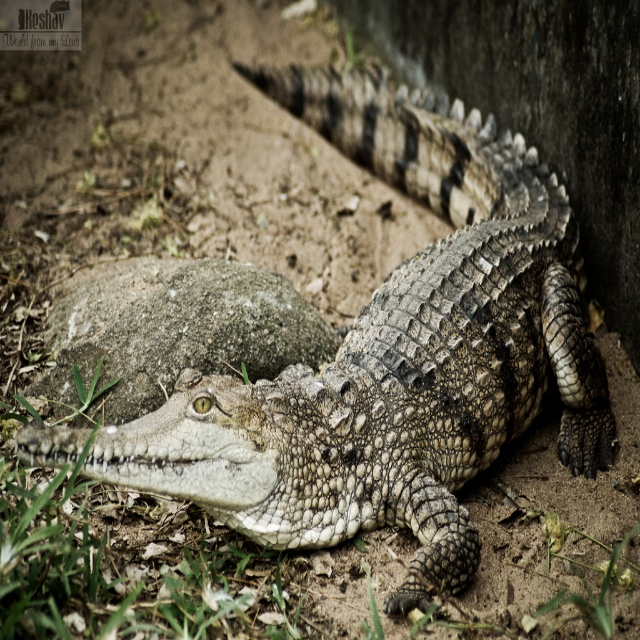Crocodile: (15, 48, 618, 620)
